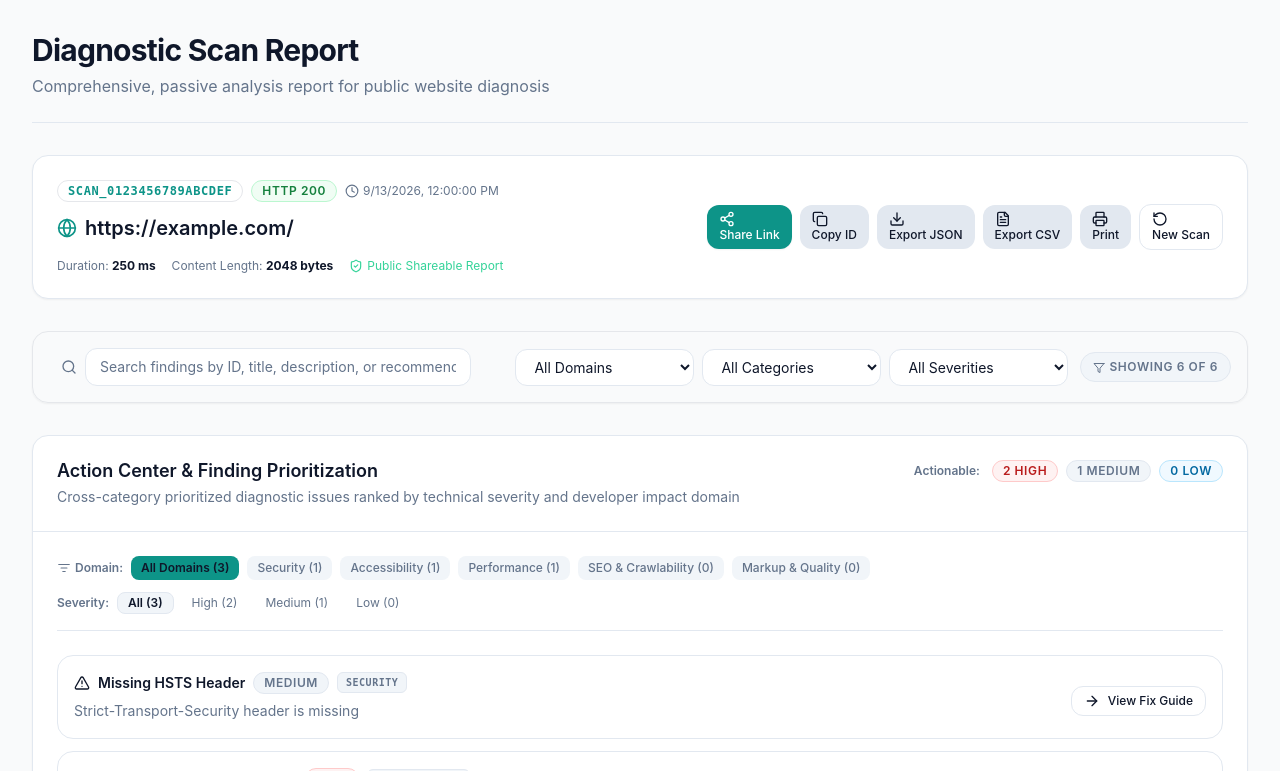
Scenario: ReportPage & Shareable Public Report Suite › Fix 2 — Filter Contract & Domain Mapping Suite › 2. Accessibility domain filter displays accessibility findings only
Expected: the heading "Missing HSTS Header" is shown, x1=98 y1=672 x2=245 y2=692
Select "Accessibility" in the dropdown named "Filter findings by technical domain" at coordinates (605, 367), box x1=515 y1=348 x2=694 y2=386
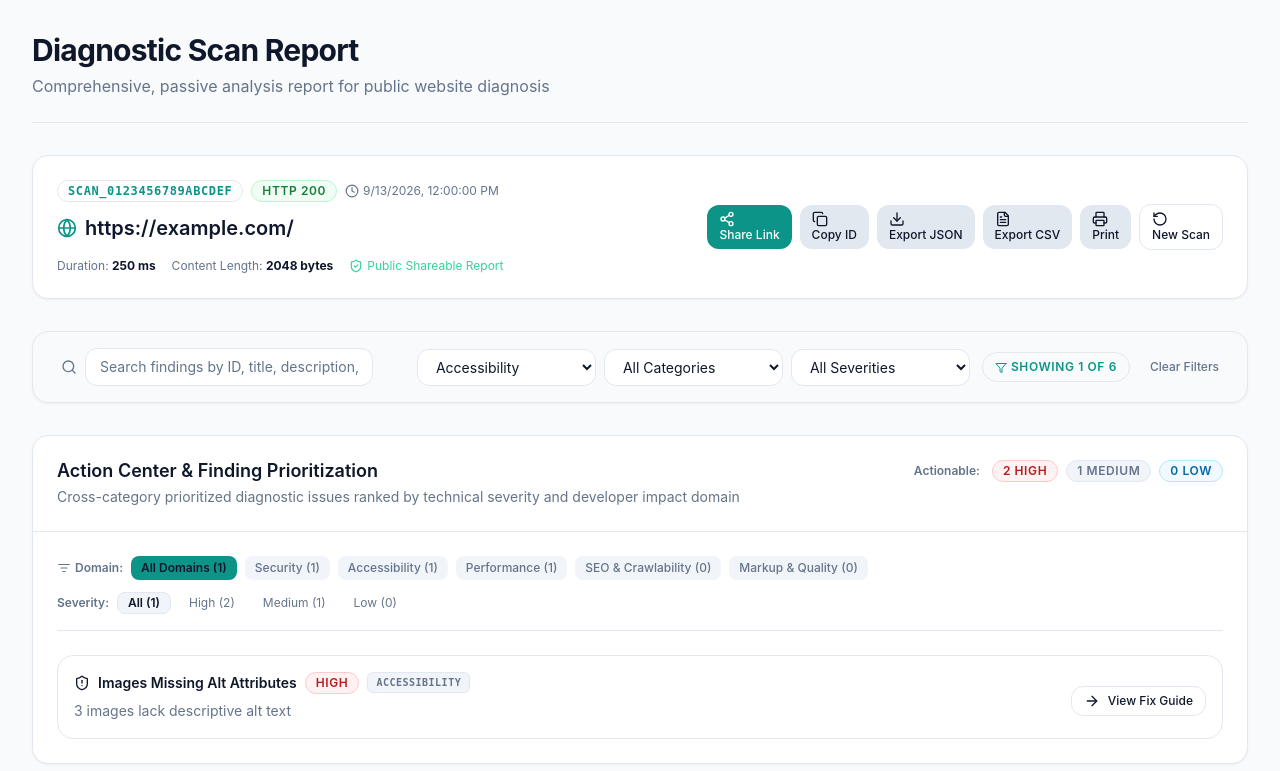
Expected: the heading "Images Missing Alt Attributes" is shown, x1=98 y1=672 x2=297 y2=692
Expected: the heading "Missing HSTS Header" is gone
